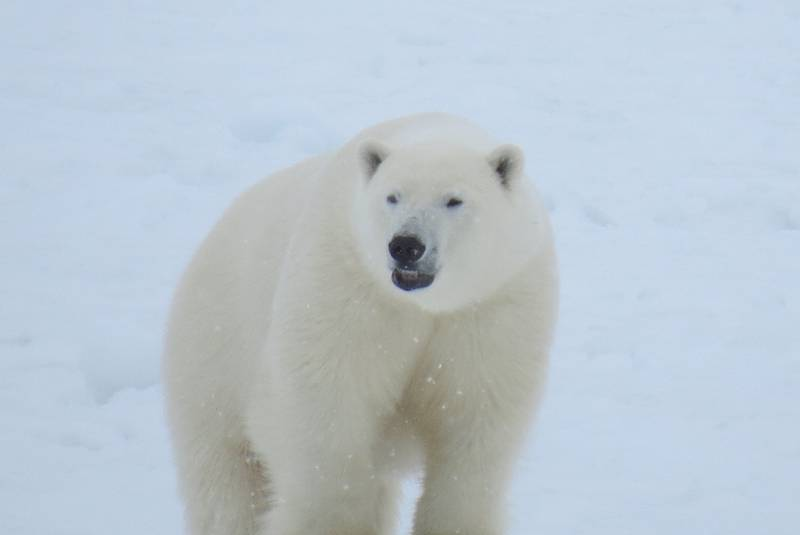Polar Bear: (136, 70, 585, 535)
